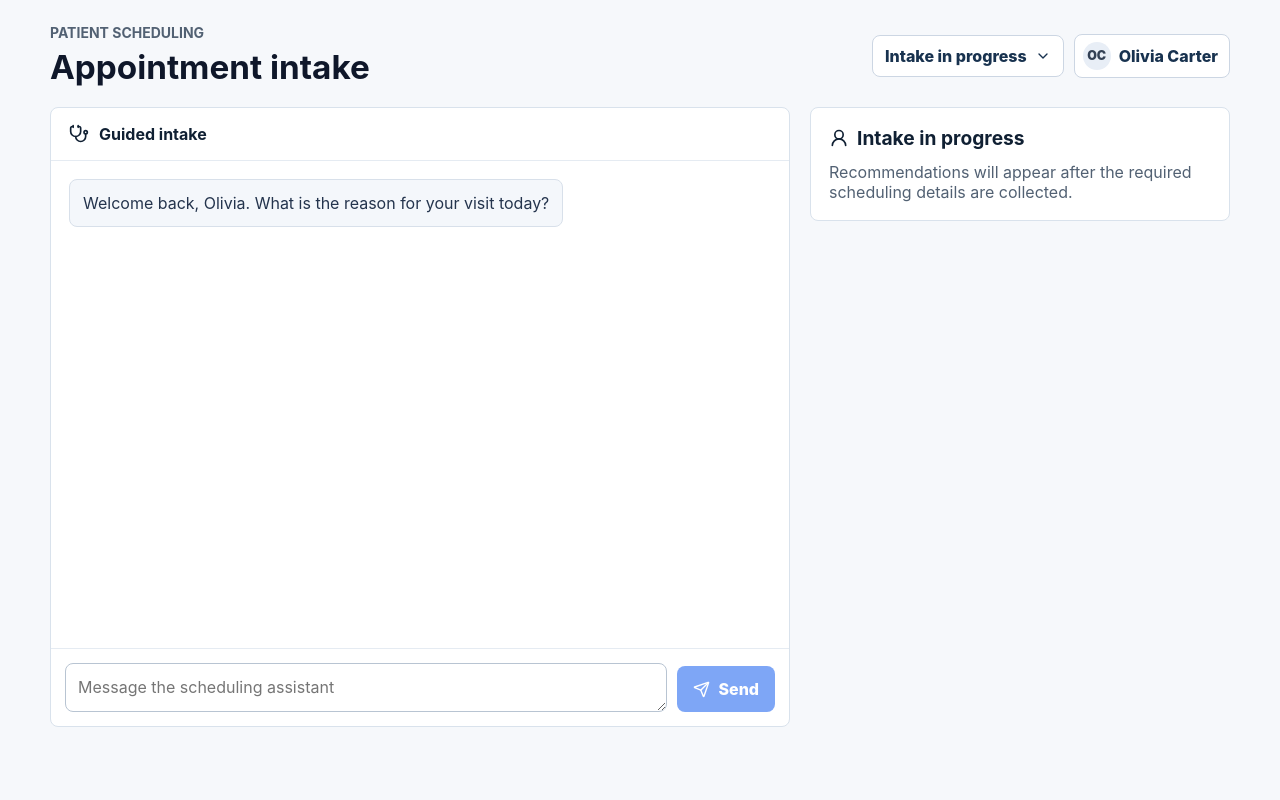
Test: closes the status disclosure on outside click
Click the button with aria-label "scheduling progress: intake in progress": (968, 56) 872,34 -> 1064,76
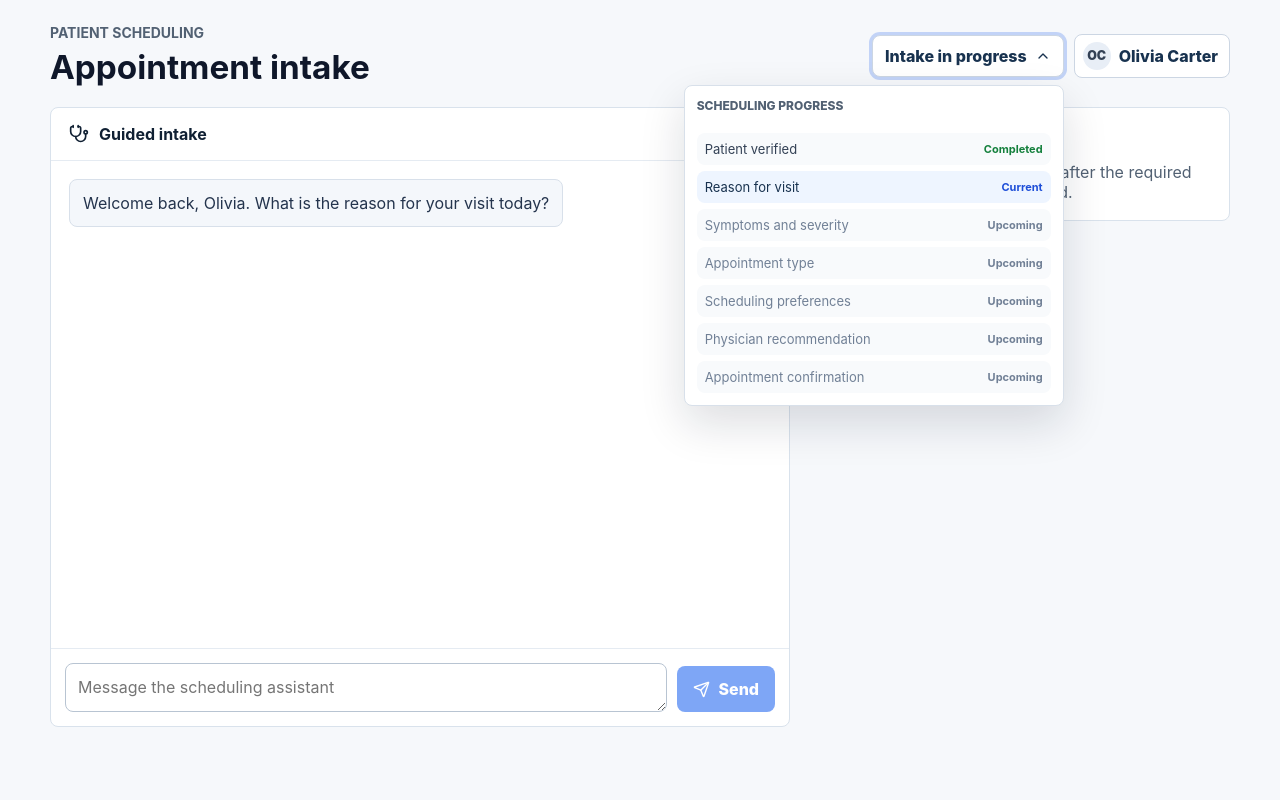
Expected: the button with aria-label "scheduling progress: intake in progress" is expanded, 872,34 -> 1064,76
Click the element that starts with "Patient scheduling": (640, 400) 0,0 -> 1279,799
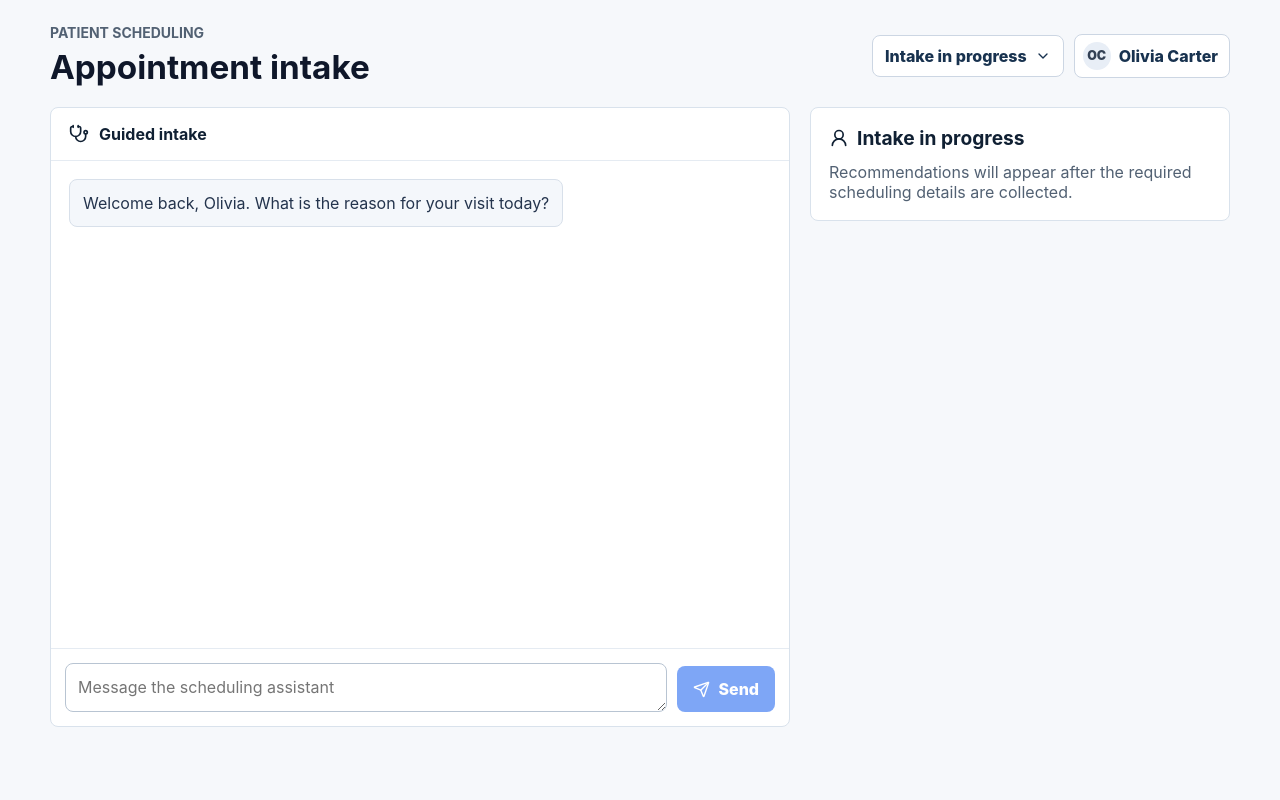
Expected: the button with aria-label "scheduling progress: intake in progress" is collapsed, 872,34 -> 1064,76
Expected: the heading "Scheduling progress" is gone
